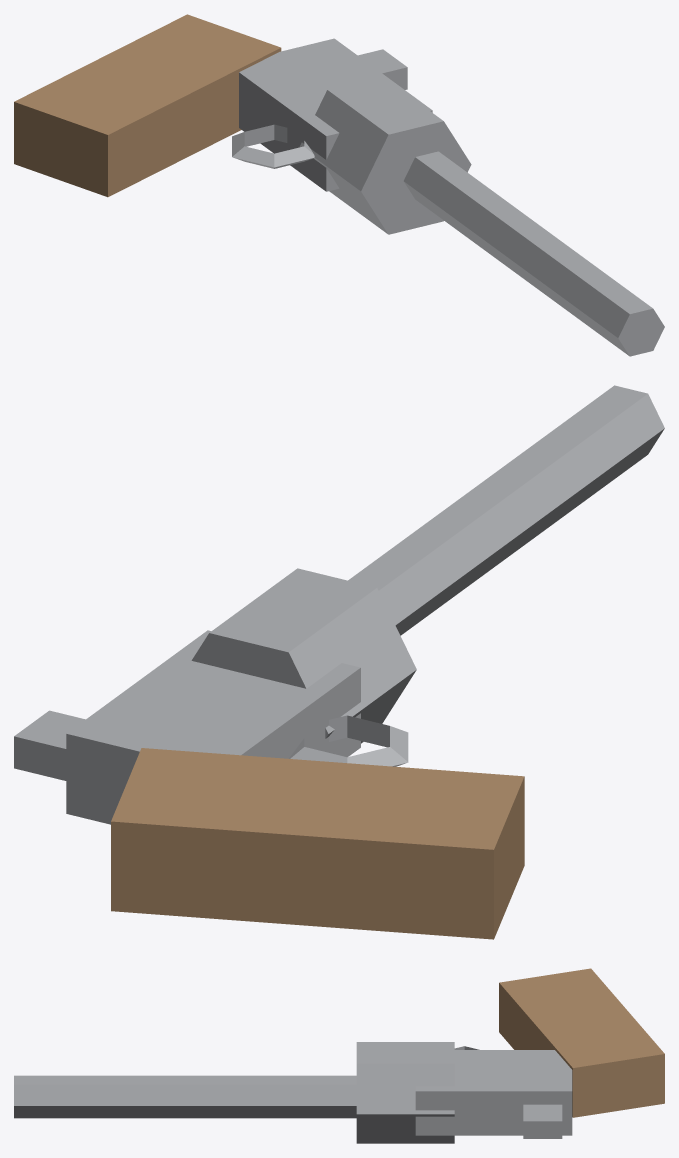
File: SM_Revolver.glb
The picture shows the model from 3 angles, top to bottom: view 1: azimuth 30°, elevation 25°; view 2: azimuth 150°, elevation 25°; view 3: azimuth 270°, elevation 25°; orthographic projection. The views are drawn at different scales.
Visible parts, largest first — view 1: SM_Revolver; view 2: SM_Revolver; view 3: SM_Revolver.
Boxes of the visible parts, x1,y1,x2,y2 form: SM_Revolver: (14, 14, 664, 356); SM_Revolver: (14, 385, 664, 939); SM_Revolver: (14, 968, 664, 1143).
Size of the model in its own units: 0.1652 by 0.045 by 0.3323.
